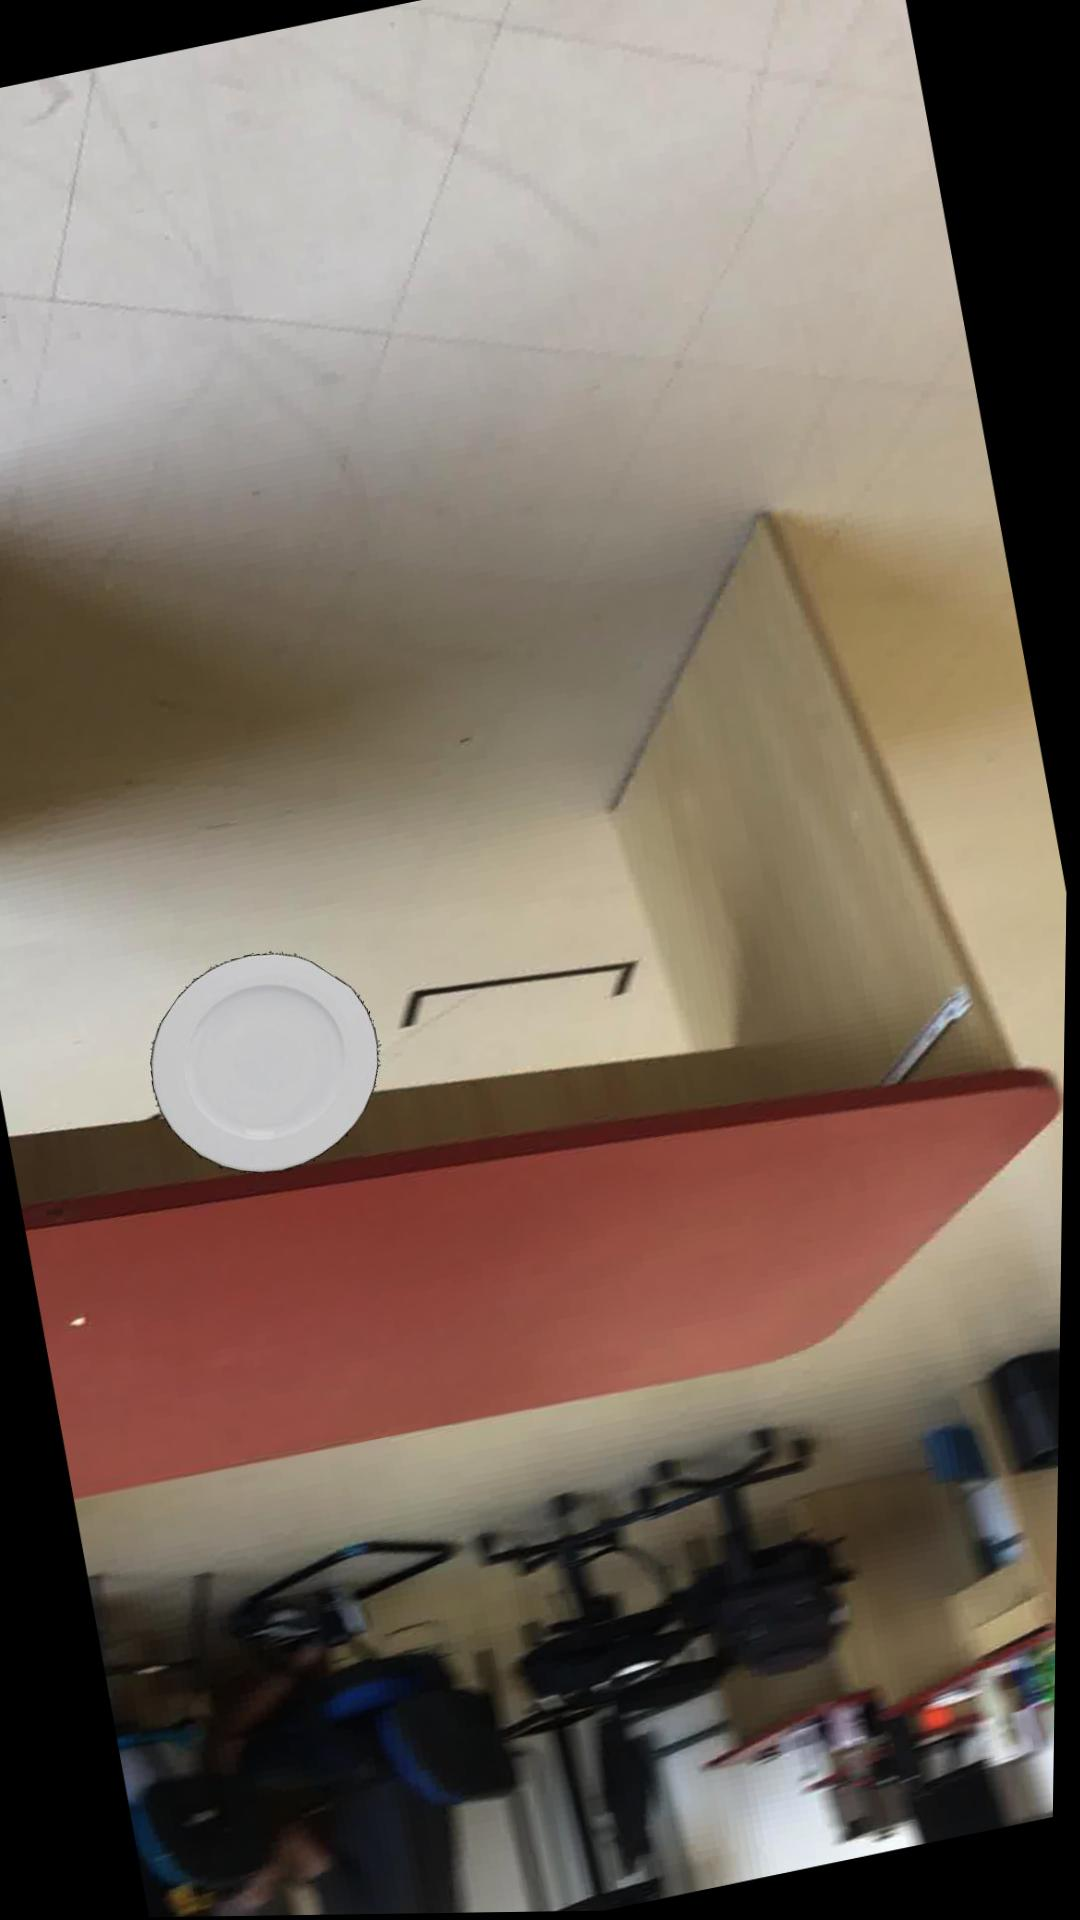plate: (154, 955, 382, 1175)
